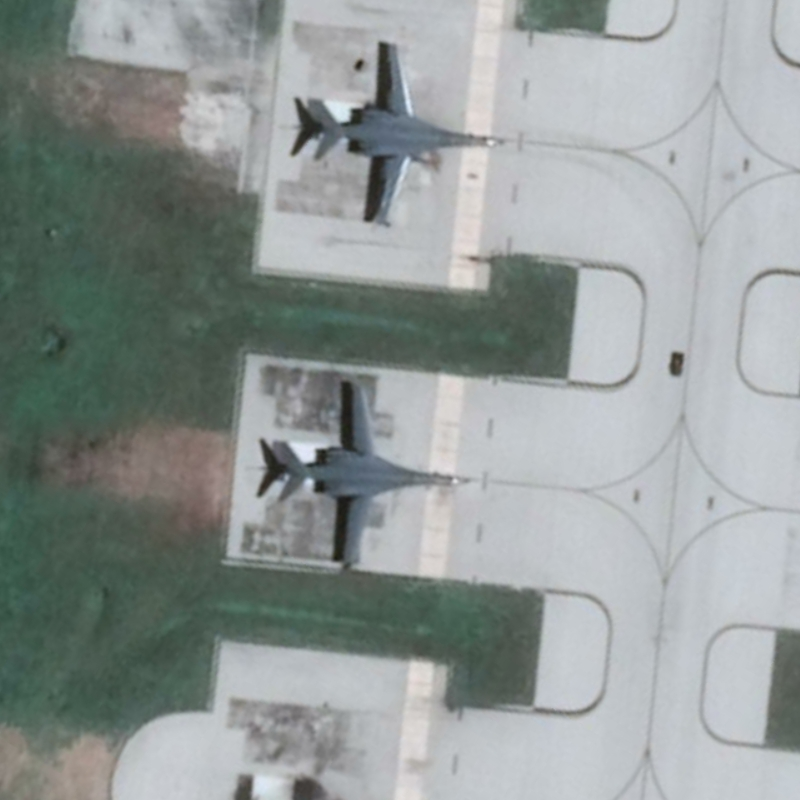A10: (266, 372, 480, 577), (298, 39, 507, 233)
